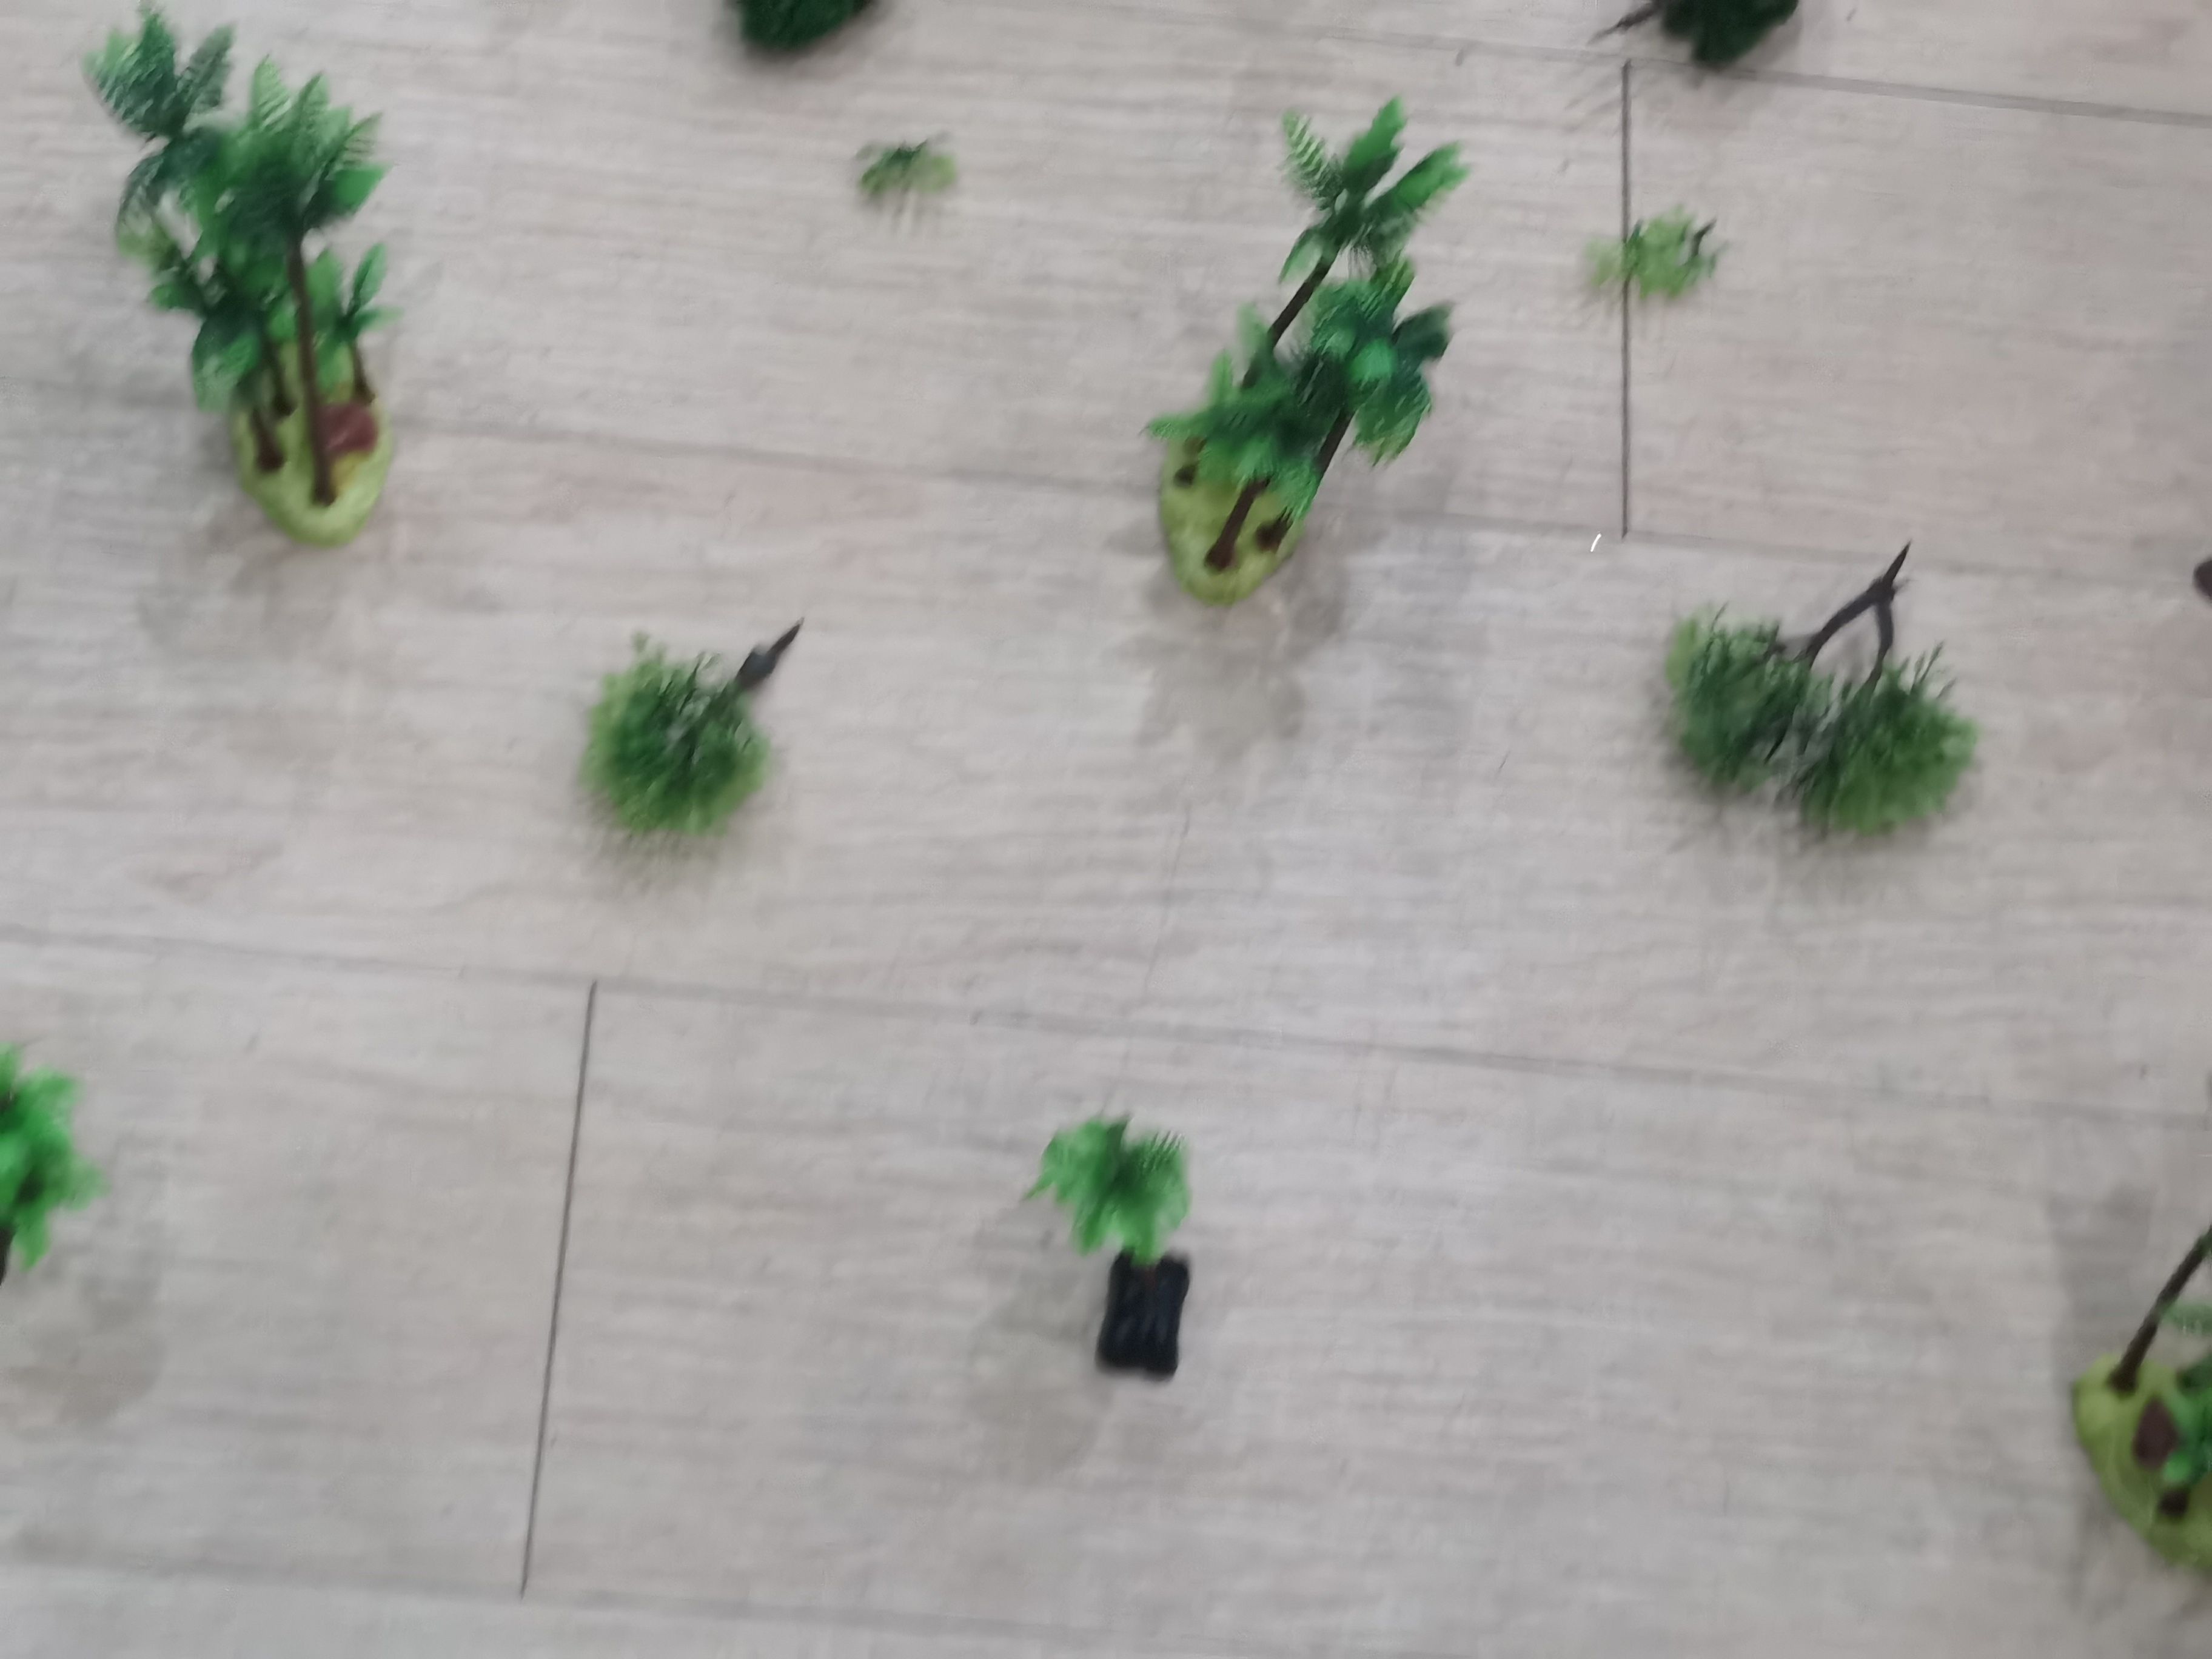corn: (77, 3, 409, 540), (1151, 91, 1460, 589), (1019, 1107, 1212, 1389)
